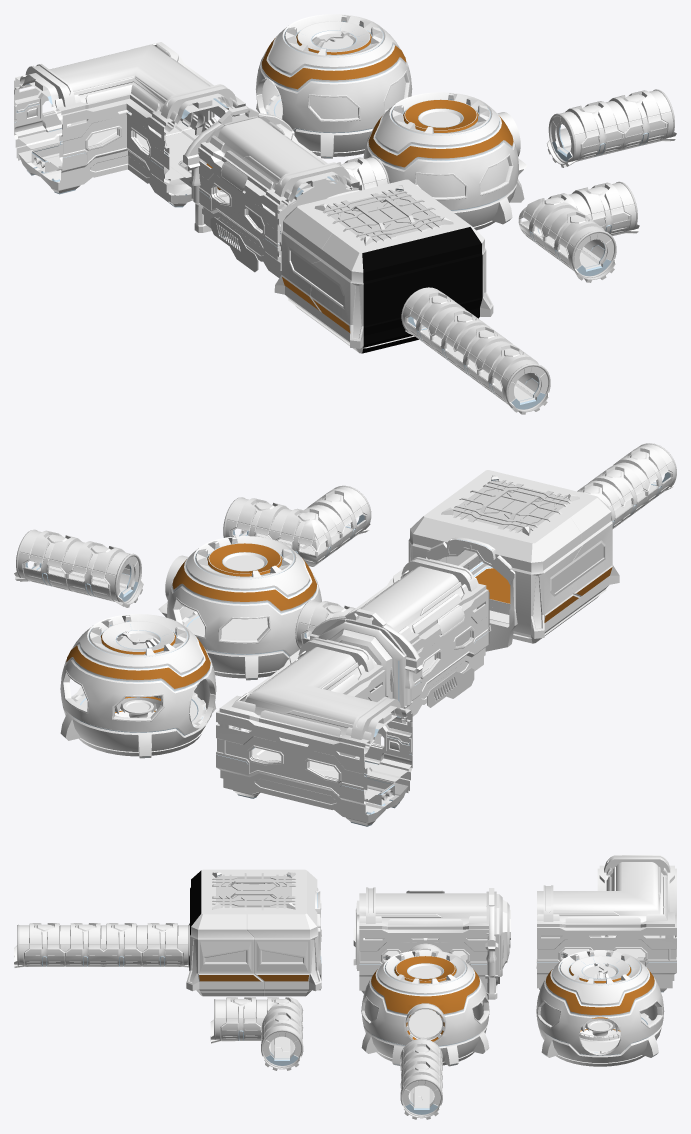
File: SpaceBase_Station00.FBX
3 views of the same model, one above another, from view 1: azimuth 30°, elevation 25°; view 2: azimuth 150°, elevation 25°; view 3: azimuth 270°, elevation 25° (orthographic). The views are drawn at different scales.
Parts seen in each view (by area): view 1: SB_Room00, Box020, Sphere004, Sphere002, Box022, SB_Exit001, SB_Exit00, SB_CorridorConnexion002, Box002, SB_CorridorConnexion003, Box047, SB_CorridorConnexion001 (+15 smaller); view 2: Box020, SB_Room00, Sphere004, Sphere002, Box022, SB_Exit001, SB_Exit00, SB_CorridorConnexion003, Box002, Box047, SB_CorridorConnexion001, Box004 (+16 smaller); view 3: SB_Room00, Box020, Sphere004, Sphere002, SB_CorridorConnexion002, Box022, SB_Exit001, Box038, SB_Exit00, Box047, SB_CorridorConnexion003, Box004 (+12 smaller).
Part boxes in pixels (x1,y1,x2,y2): SB_Room00: (281, 207, 482, 353); Box020: (14, 42, 247, 202); Sphere004: (255, 35, 412, 158); Sphere002: (363, 113, 527, 230); Box022: (19, 44, 236, 124); SB_Exit001: (265, 14, 405, 119); SB_Exit00: (375, 92, 509, 197); SB_CorridorConnexion002: (402, 288, 548, 414); Box002: (198, 135, 291, 277); SB_CorridorConnexion003: (518, 182, 639, 282); Box047: (274, 179, 493, 353); SB_CorridorConnexion001: (547, 90, 676, 167); Box020: (216, 649, 412, 822); SB_Room00: (412, 497, 612, 643); Sphere004: (60, 635, 216, 758); Sphere002: (158, 556, 321, 680); Box022: (245, 637, 406, 744); SB_Exit001: (73, 614, 206, 726); SB_Exit00: (182, 536, 311, 639); SB_CorridorConnexion003: (225, 486, 370, 566); Box002: (398, 577, 488, 716); Box047: (408, 470, 619, 643); SB_CorridorConnexion001: (14, 530, 143, 607); Box004: (359, 557, 477, 632); SB_Room00: (189, 870, 318, 996); Box020: (537, 865, 676, 988); Sphere004: (536, 967, 664, 1066); Sphere002: (361, 967, 489, 1066); SB_CorridorConnexion002: (14, 923, 189, 967); Box022: (537, 855, 670, 923); SB_Exit001: (540, 950, 653, 1053); Box038: (359, 916, 488, 990); SB_Exit00: (364, 950, 478, 1037); Box047: (186, 869, 321, 996); SB_CorridorConnexion003: (210, 997, 303, 1070); Box004: (359, 887, 486, 925).
Bounding box in the file's own units: 141 × 34.13 × 200.
